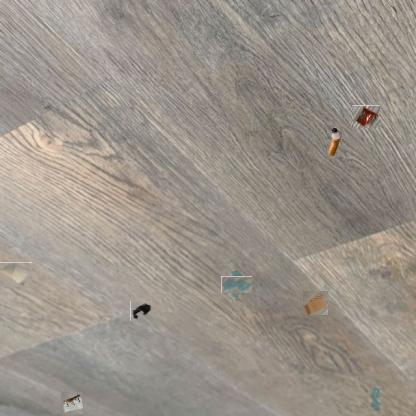dirty: (0, 262, 32, 287), (352, 105, 380, 128), (302, 291, 328, 315), (326, 126, 342, 158), (61, 393, 83, 415), (130, 301, 153, 321)
liquid: (224, 272, 249, 296), (367, 385, 381, 411)
